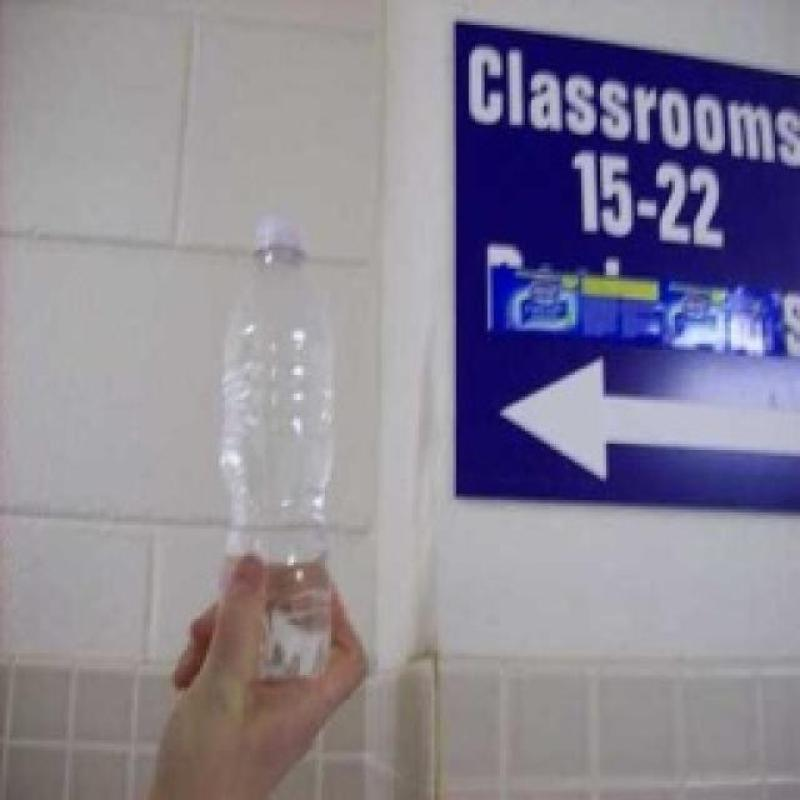botella: (212, 218, 338, 680)
